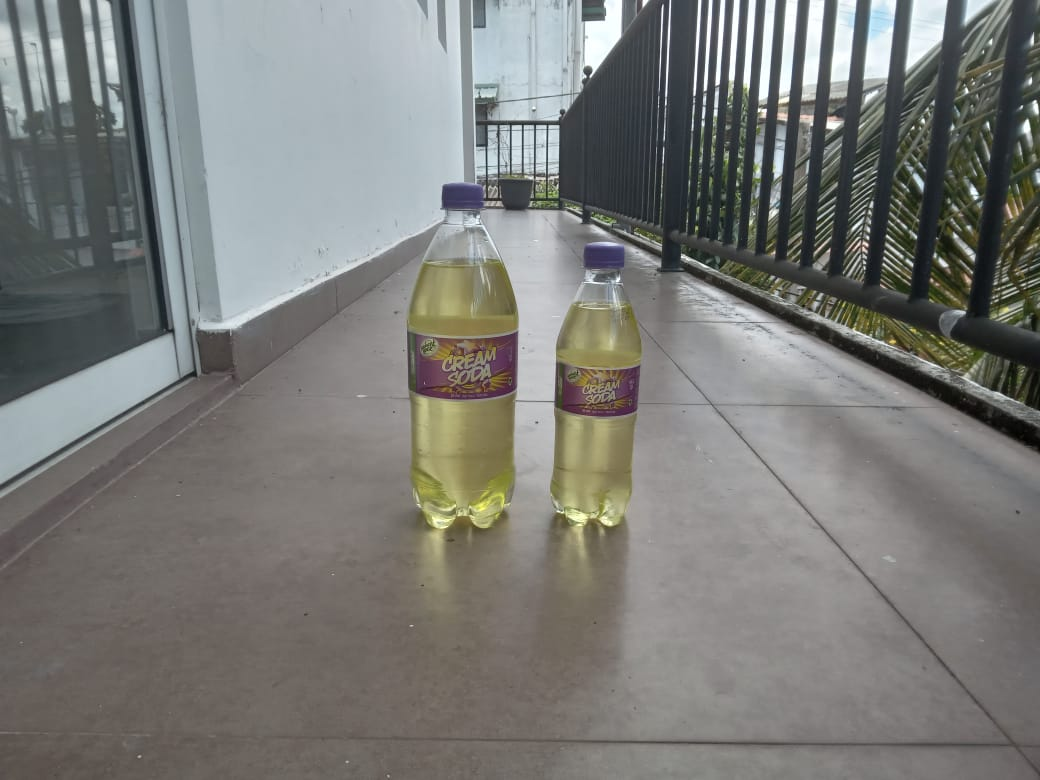M: (404, 187, 518, 529)
S: (548, 239, 645, 532)
